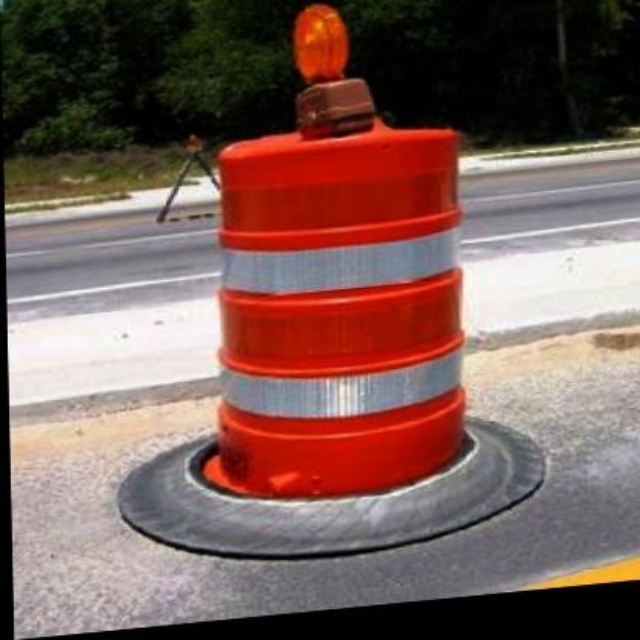obstacle: (202, 116, 478, 526)
